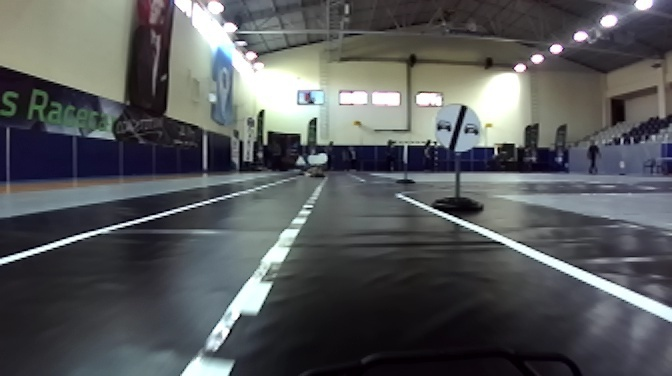sollama_serbest: (432, 101, 481, 152)
